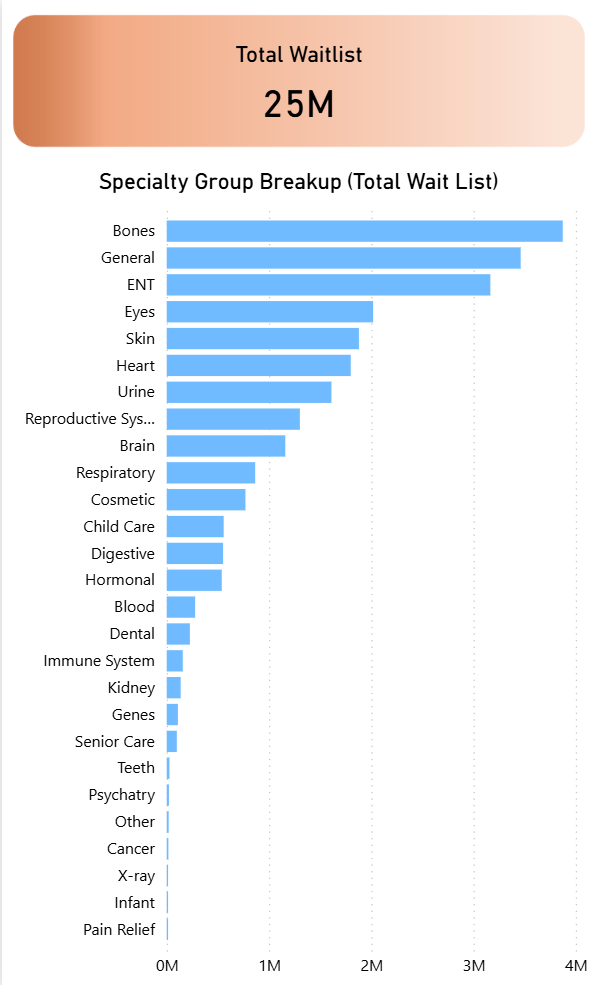

The dashboard page shown, as its layout file describes it:
{"tool":"powerbi","page":{"name":"DrillDown","canvas":[450,750],"ordinal":2},"visuals":[{"type":"card","title":"Total Waitlist","fields":{"Values":["Sum(All_Data.Total)"]},"box":[0,31.1,450.2,76.5],"z":0},{"type":"barChart","title":"Specialty Group Breakup (Total Wait List)","fields":{"Category":["Mapping_Specialty.Specialty Group"],"Y":["Sum(All_Data.Total)"]},"box":[0,127.1,448.9,622.7],"z":1000}]}

Visuals, with their boxes in screenshot pixels (x1, y1, x2, y2), scaled from the page's 450x750 canvas onto the 596x985 screenshot:
"Total Waitlist" card: 0 41 595 141
"Specialty Group Breakup (Total Wait List)" barChart: 0 167 595 984
